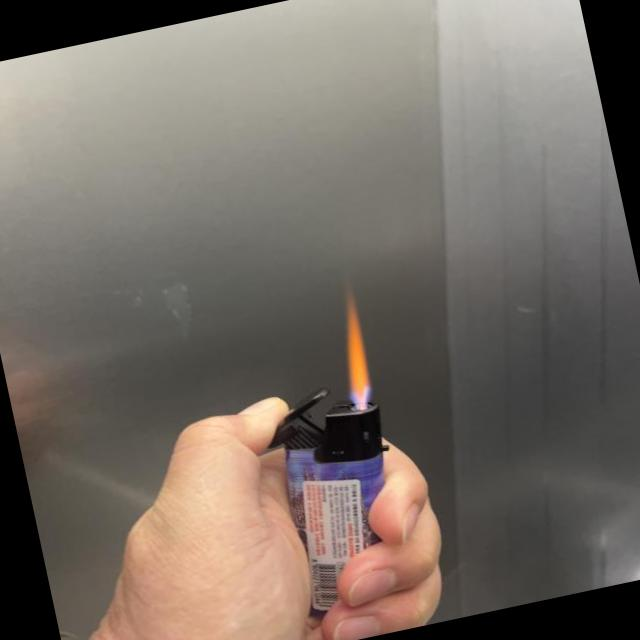Fire: (326, 288, 380, 408)
